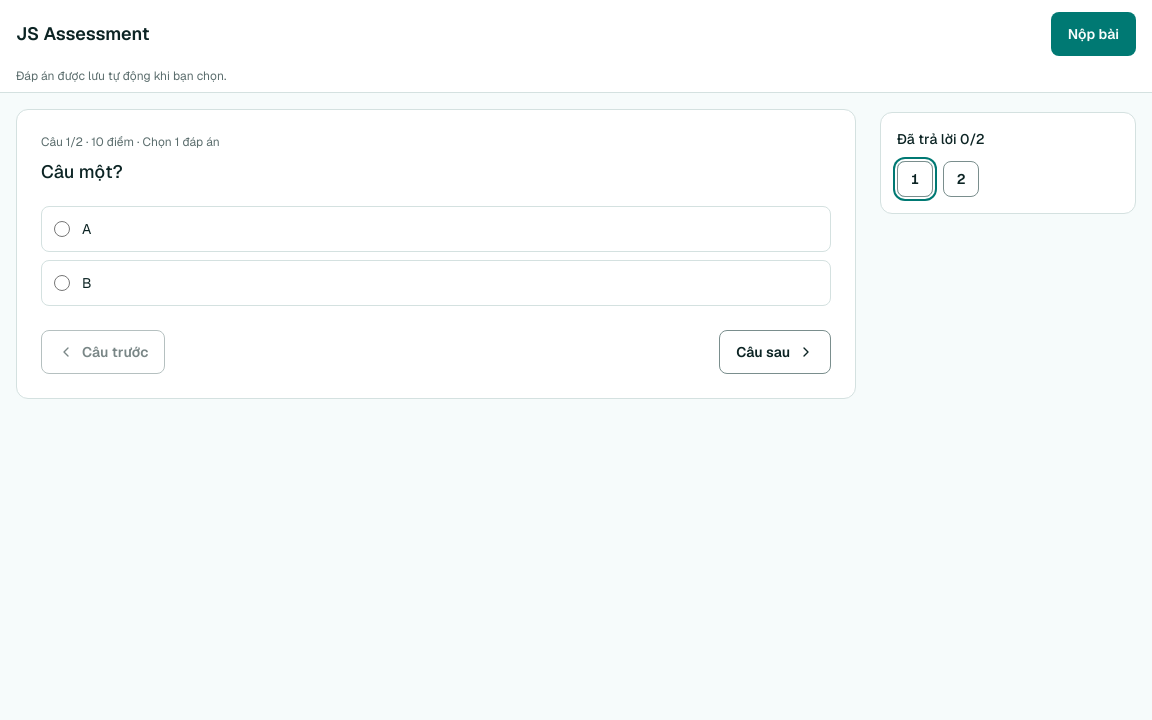
attempt runner › opens the timeout modal when an autosave reports ATTEMPT_EXPIRED
This screenshot has width=1152, height=720.
Click the radio button labelled "A".
click(62, 229)  # box [54,221,70,237]
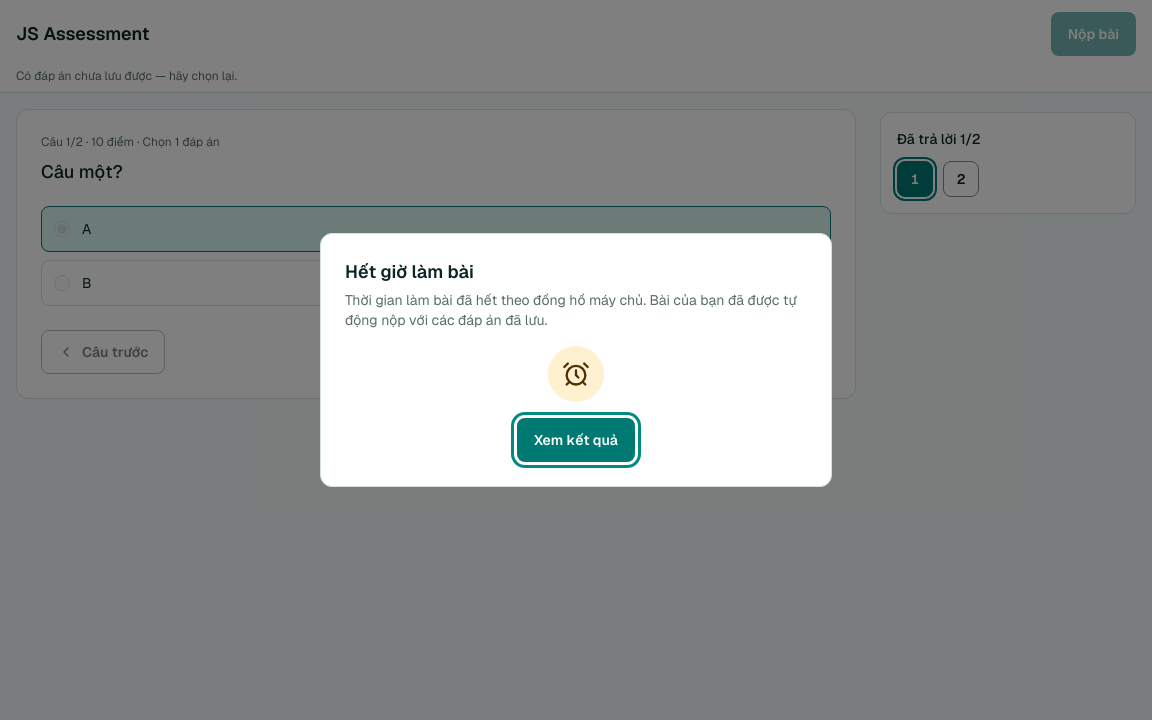
Now the heading "Hết giờ làm bài" is shown, box [345,260,474,283]
